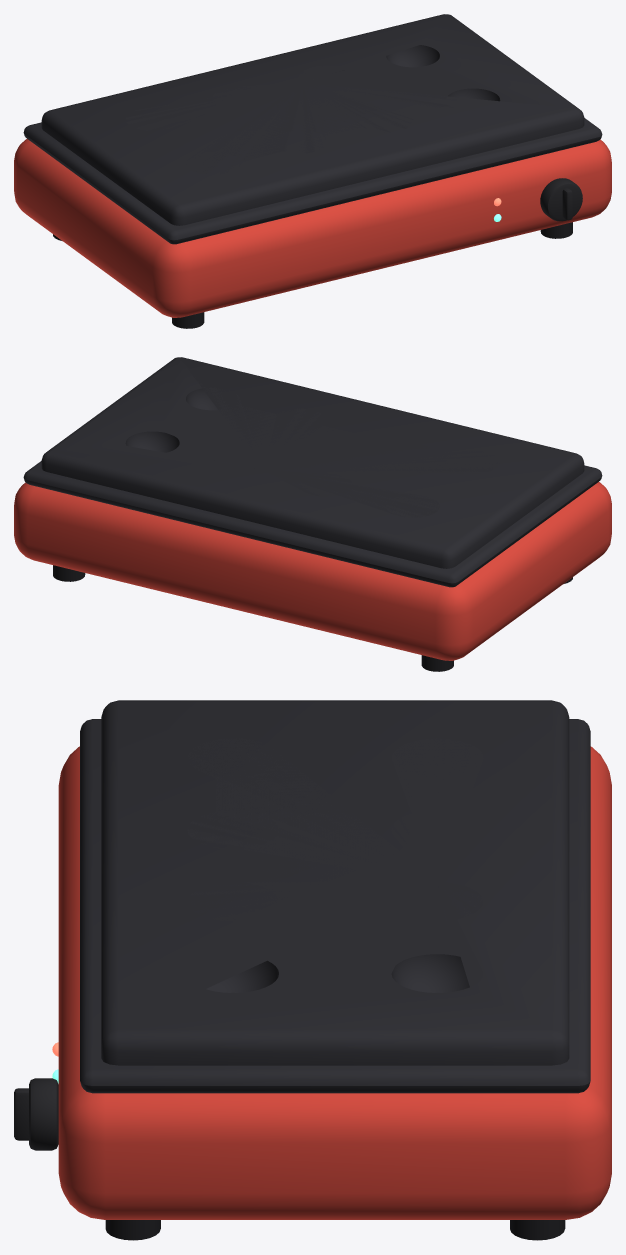
The model's file is Takoyaki_Grill.fbx.
3 views of the same model, one above another, from view 1: azimuth 30°, elevation 25°; view 2: azimuth 150°, elevation 25°; view 3: azimuth 270°, elevation 25° (orthographic). The views are drawn at different scales.
Parts seen in each view (by area): view 1: Takoyaki_Grill; view 2: Takoyaki_Grill; view 3: Takoyaki_Grill.
Part boxes in pixels (left/top/right/bottom): Takoyaki_Grill: left=14, top=14, right=611, bottom=328; Takoyaki_Grill: left=14, top=357, right=611, bottom=671; Takoyaki_Grill: left=14, top=700, right=611, bottom=1240.
Bounding box in the file's own units: 0.42 × 0.109 × 0.281.
